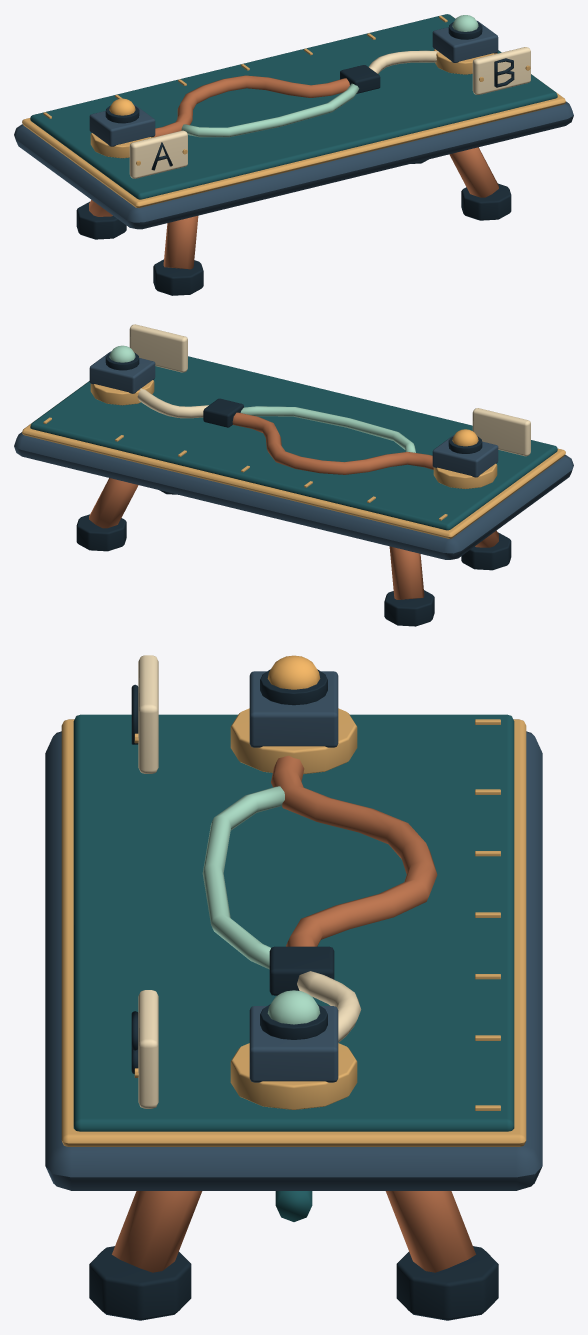
3 renders of one model, top to bottom at view 1: azimuth 30°, elevation 25°; view 2: azimuth 150°, elevation 25°; view 3: azimuth 270°, elevation 25°, orthographic. The views are drawn at different scales.
Visible parts, largest first — view 1: PR012 workshop assembly; view 2: PR012 workshop assembly; view 3: PR012 workshop assembly.
Boxes of the visible parts, x1,y1,x2,y2 form: PR012 workshop assembly: (14, 14, 573, 295); PR012 workshop assembly: (14, 324, 573, 626); PR012 workshop assembly: (45, 655, 542, 1320).
Size of the model in its own units: 2.55 by 0.886 by 1.23.
